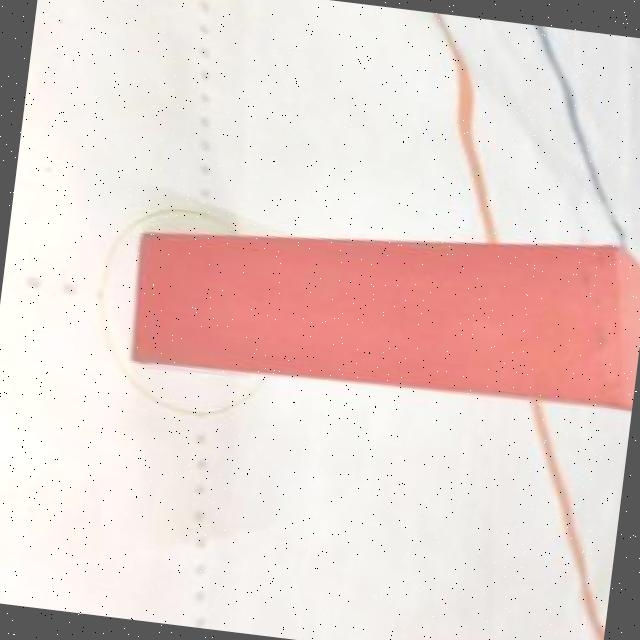redbox: (130, 187, 640, 426)
